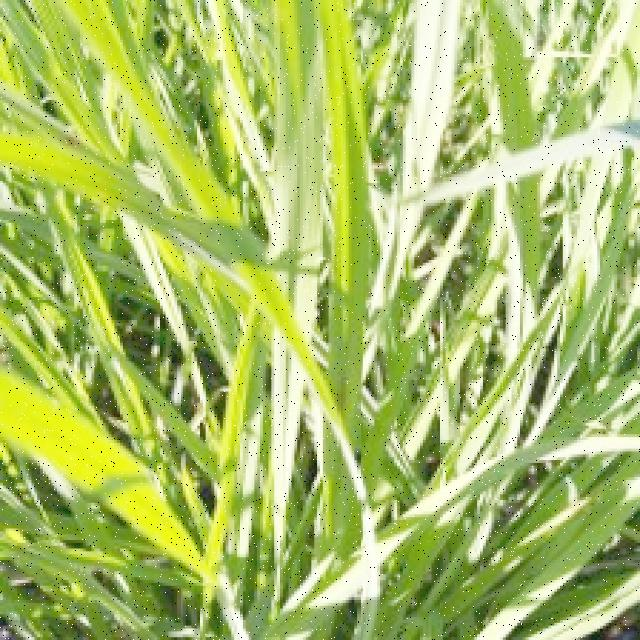health: (282, 0, 378, 480)
